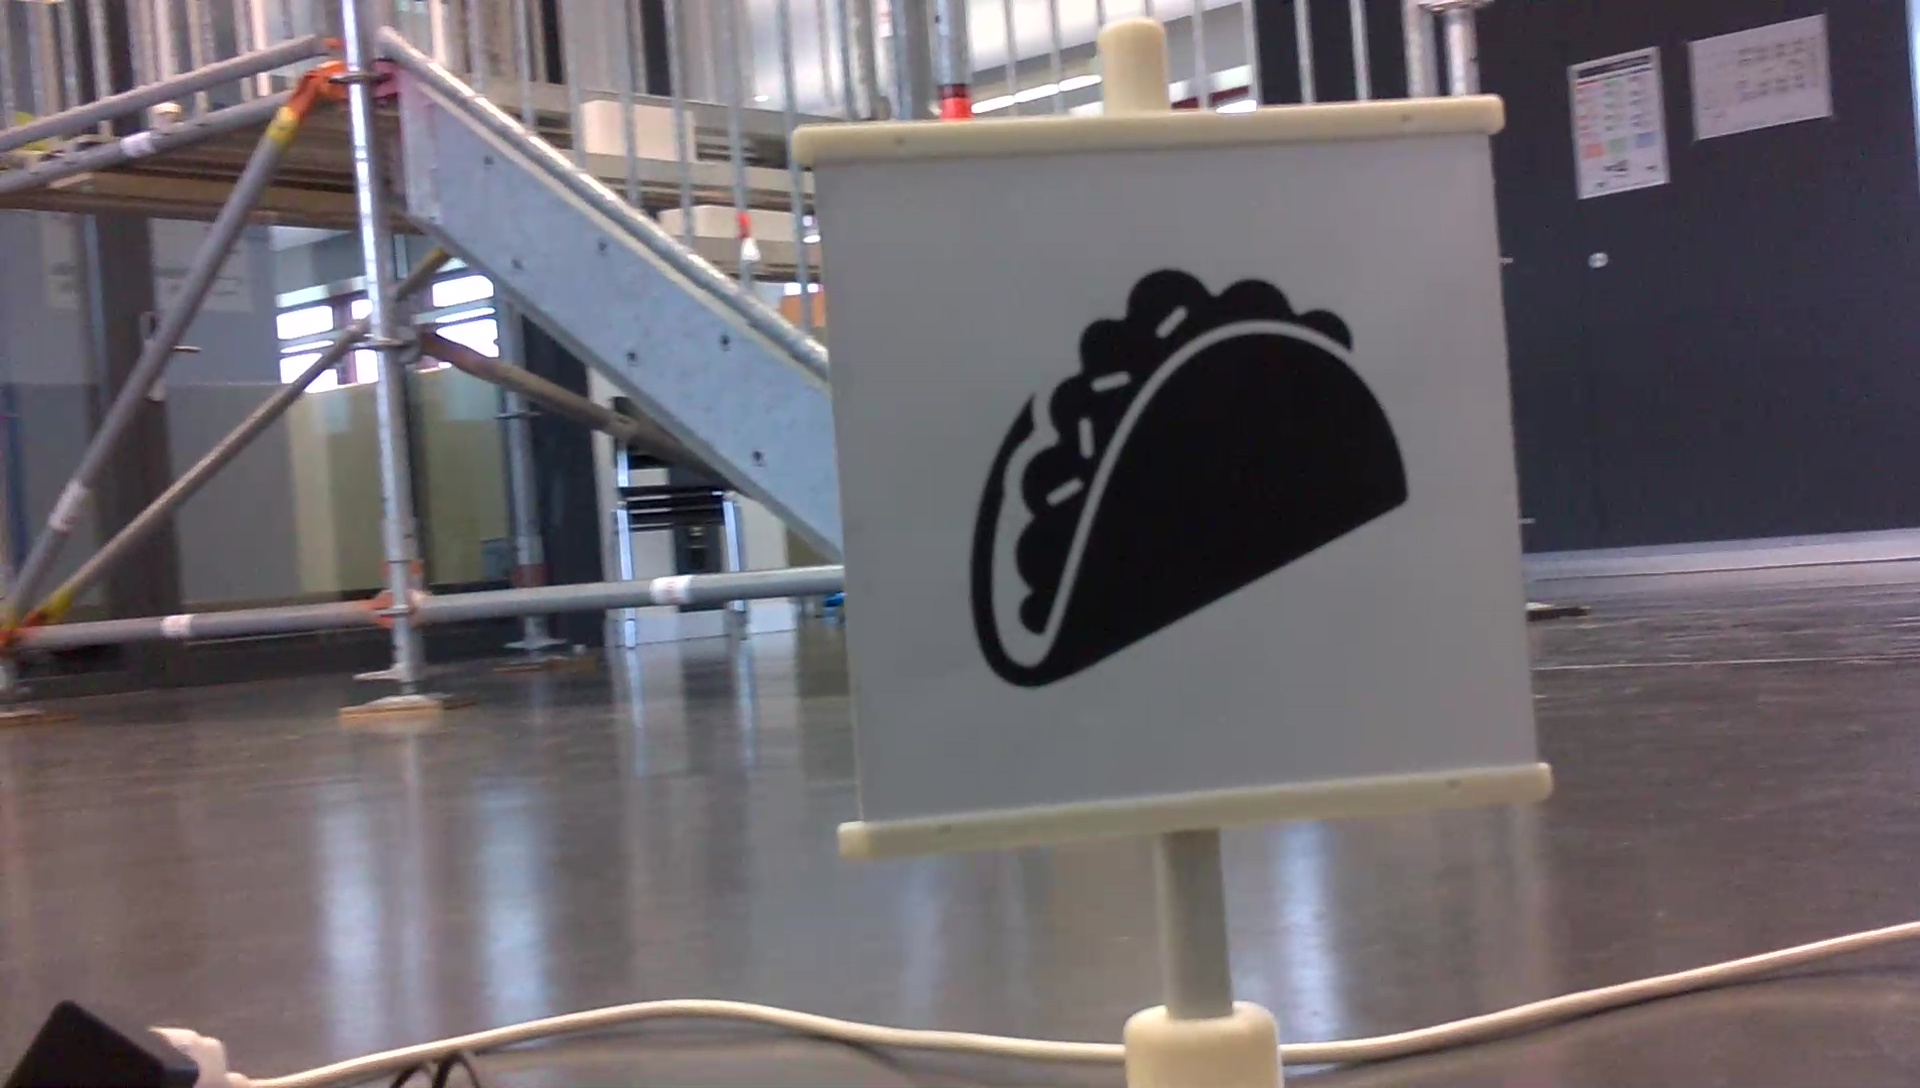taco: (957, 257, 1425, 692)
